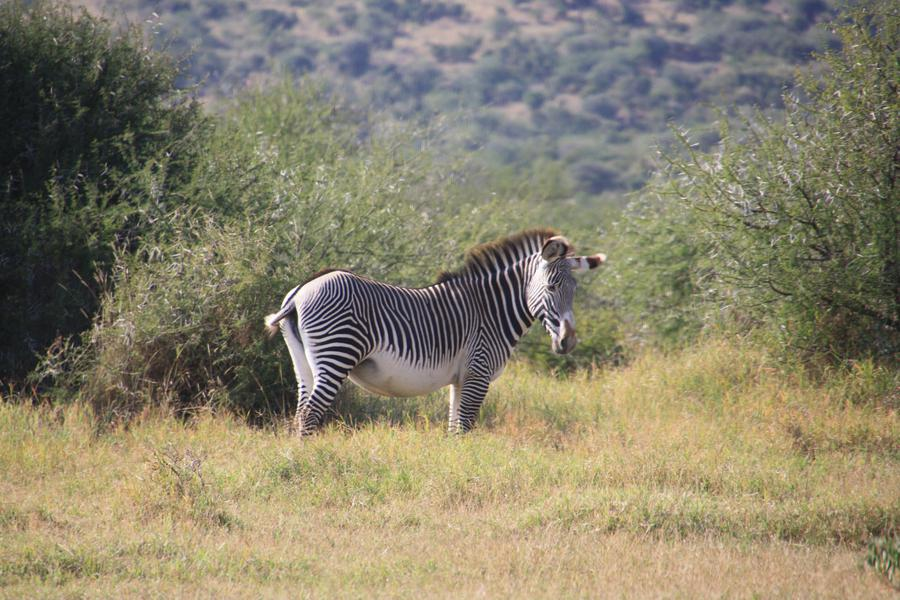zebra_grevys: (291, 267, 491, 378)
